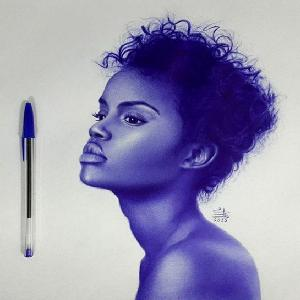pen: (18, 101, 40, 259)
